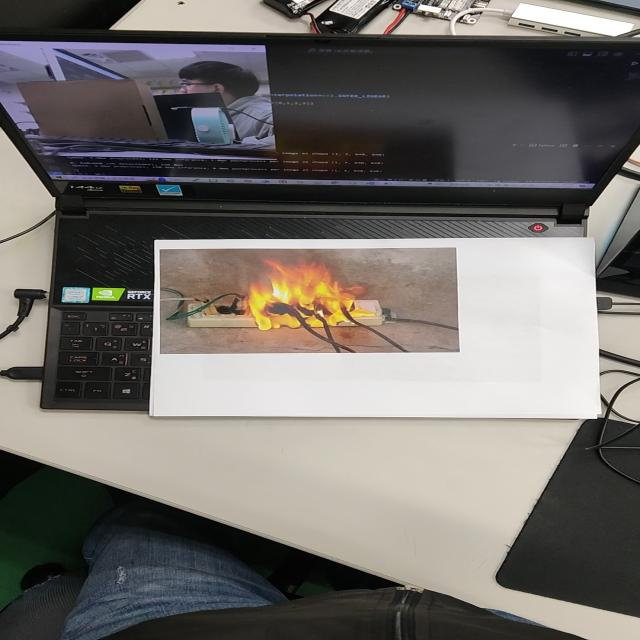person: (172, 56, 267, 136)
